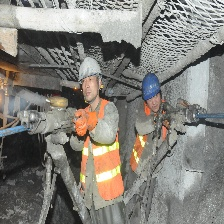helmet: (140, 70, 162, 106), (77, 57, 103, 87)
person: (73, 56, 123, 224), (129, 72, 166, 219)
vest: (74, 102, 130, 205)
